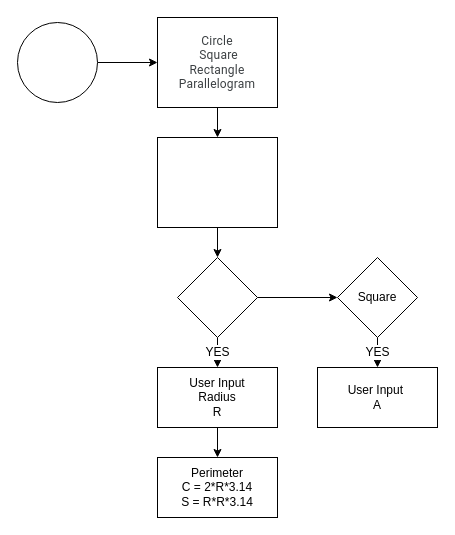
The diagram is 455 pixels wide and 535 high, and some of its shapes have lost their labels. The shapes that lost their labels are listed below. From the top down, each one's centre as x and y in pixels, then its label:
At point (57, 62): "Start".
At point (217, 182): "User input Name of Geometry".
At point (217, 297): "Circle".
